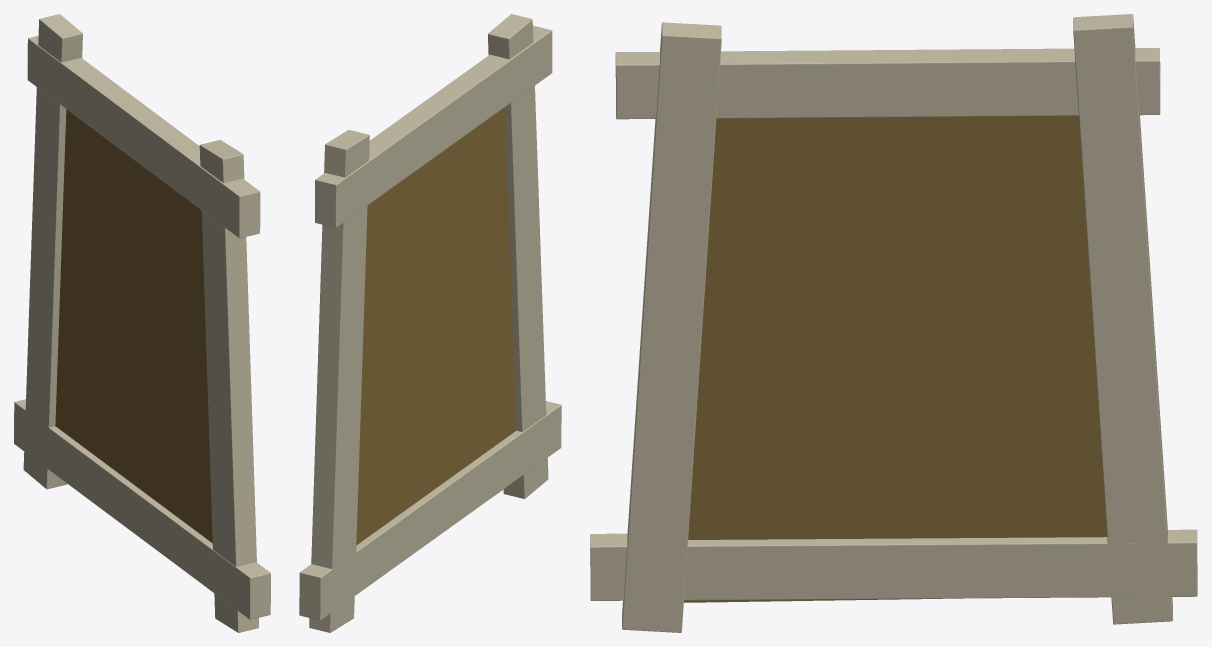
Rendered from mirror.fbx.
The picture shows the model from 3 angles, left to right: view 1: azimuth 30°, elevation 25°; view 2: azimuth 150°, elevation 25°; view 3: azimuth 270°, elevation 25°; orthographic projection. The views are drawn at different scales.
Visible parts, largest first — view 1: Line758099, ChamferBo1, ChamferBox, ChamferBo2, ChamferBo0; view 2: Line758099, ChamferBox, ChamferBo2, ChamferBo1, ChamferBo0; view 3: Line758099, ChamferBo1, ChamferBox, ChamferBo0, ChamferBo2.
Boxes of the visible parts, x1,y1,x2,y2 form: Line758099: [55, 109, 212, 542]; ChamferBo1: [199, 140, 258, 632]; ChamferBox: [23, 14, 82, 489]; ChamferBo2: [27, 35, 260, 238]; ChamferBo0: [14, 399, 270, 619]; Line758099: [356, 107, 517, 545]; ChamferBox: [309, 130, 369, 632]; ChamferBo2: [315, 25, 552, 227]; ChamferBo1: [488, 14, 548, 498]; ChamferBo0: [299, 401, 561, 620]; Line758099: [684, 115, 1107, 602]; ChamferBo1: [622, 22, 721, 632]; ChamferBox: [1073, 14, 1172, 624]; ChamferBo0: [590, 529, 1197, 600]; ChamferBo2: [615, 48, 1160, 119].
Bounding box in the file's own units: 47.98 × 966 × 877.
